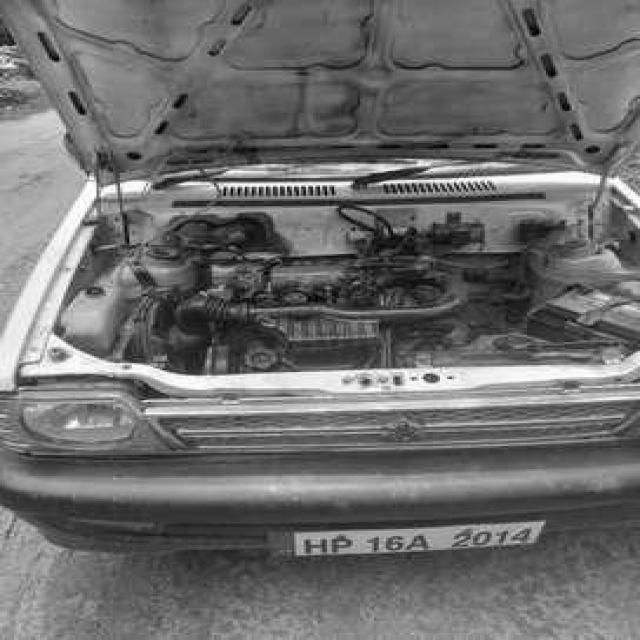license-plate: (275, 520, 551, 555)
